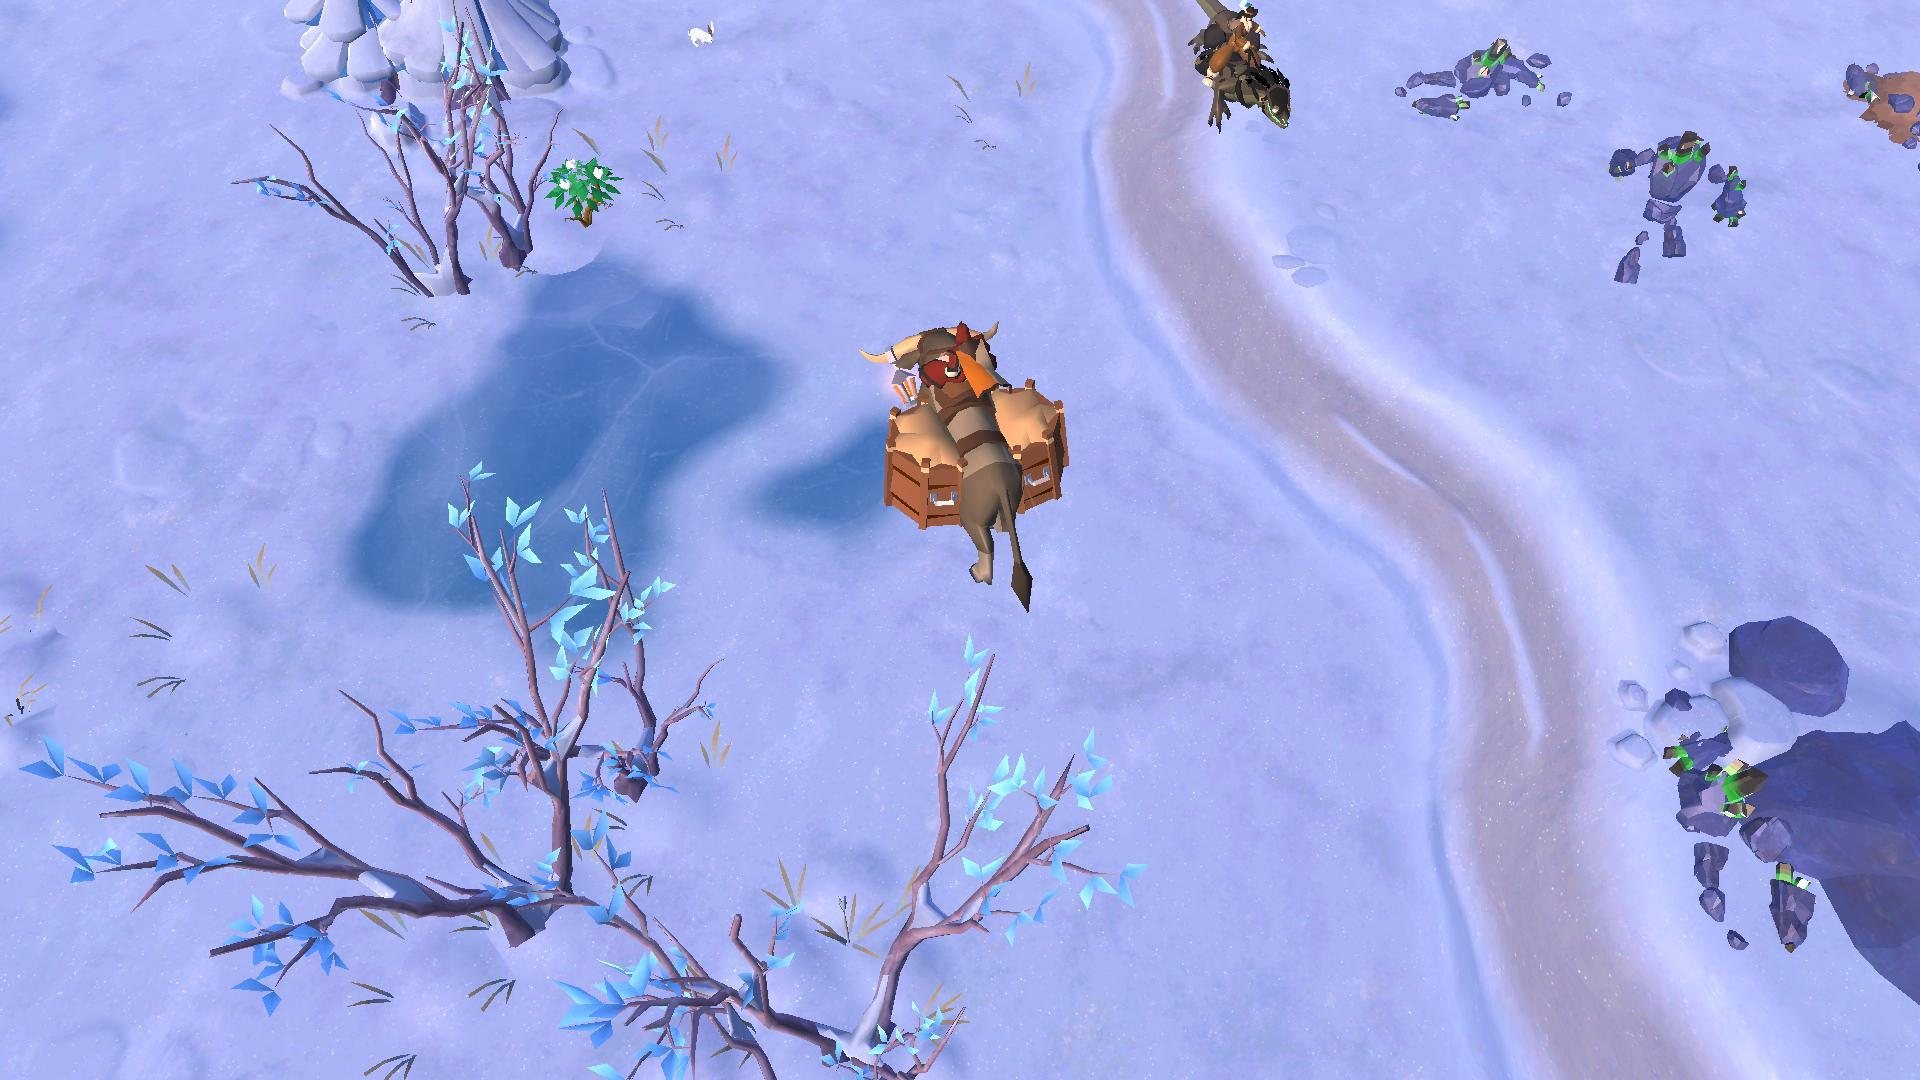fiber_t3: (535, 153, 617, 231)
